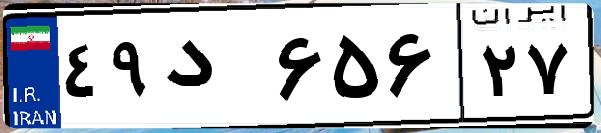2: (475, 38, 525, 113)
4: (57, 26, 110, 100)
5: (330, 28, 385, 110)
6: (270, 28, 330, 110), (385, 28, 445, 110)
7: (525, 38, 570, 115)
9: (110, 28, 158, 98)
د: (158, 20, 270, 120)
